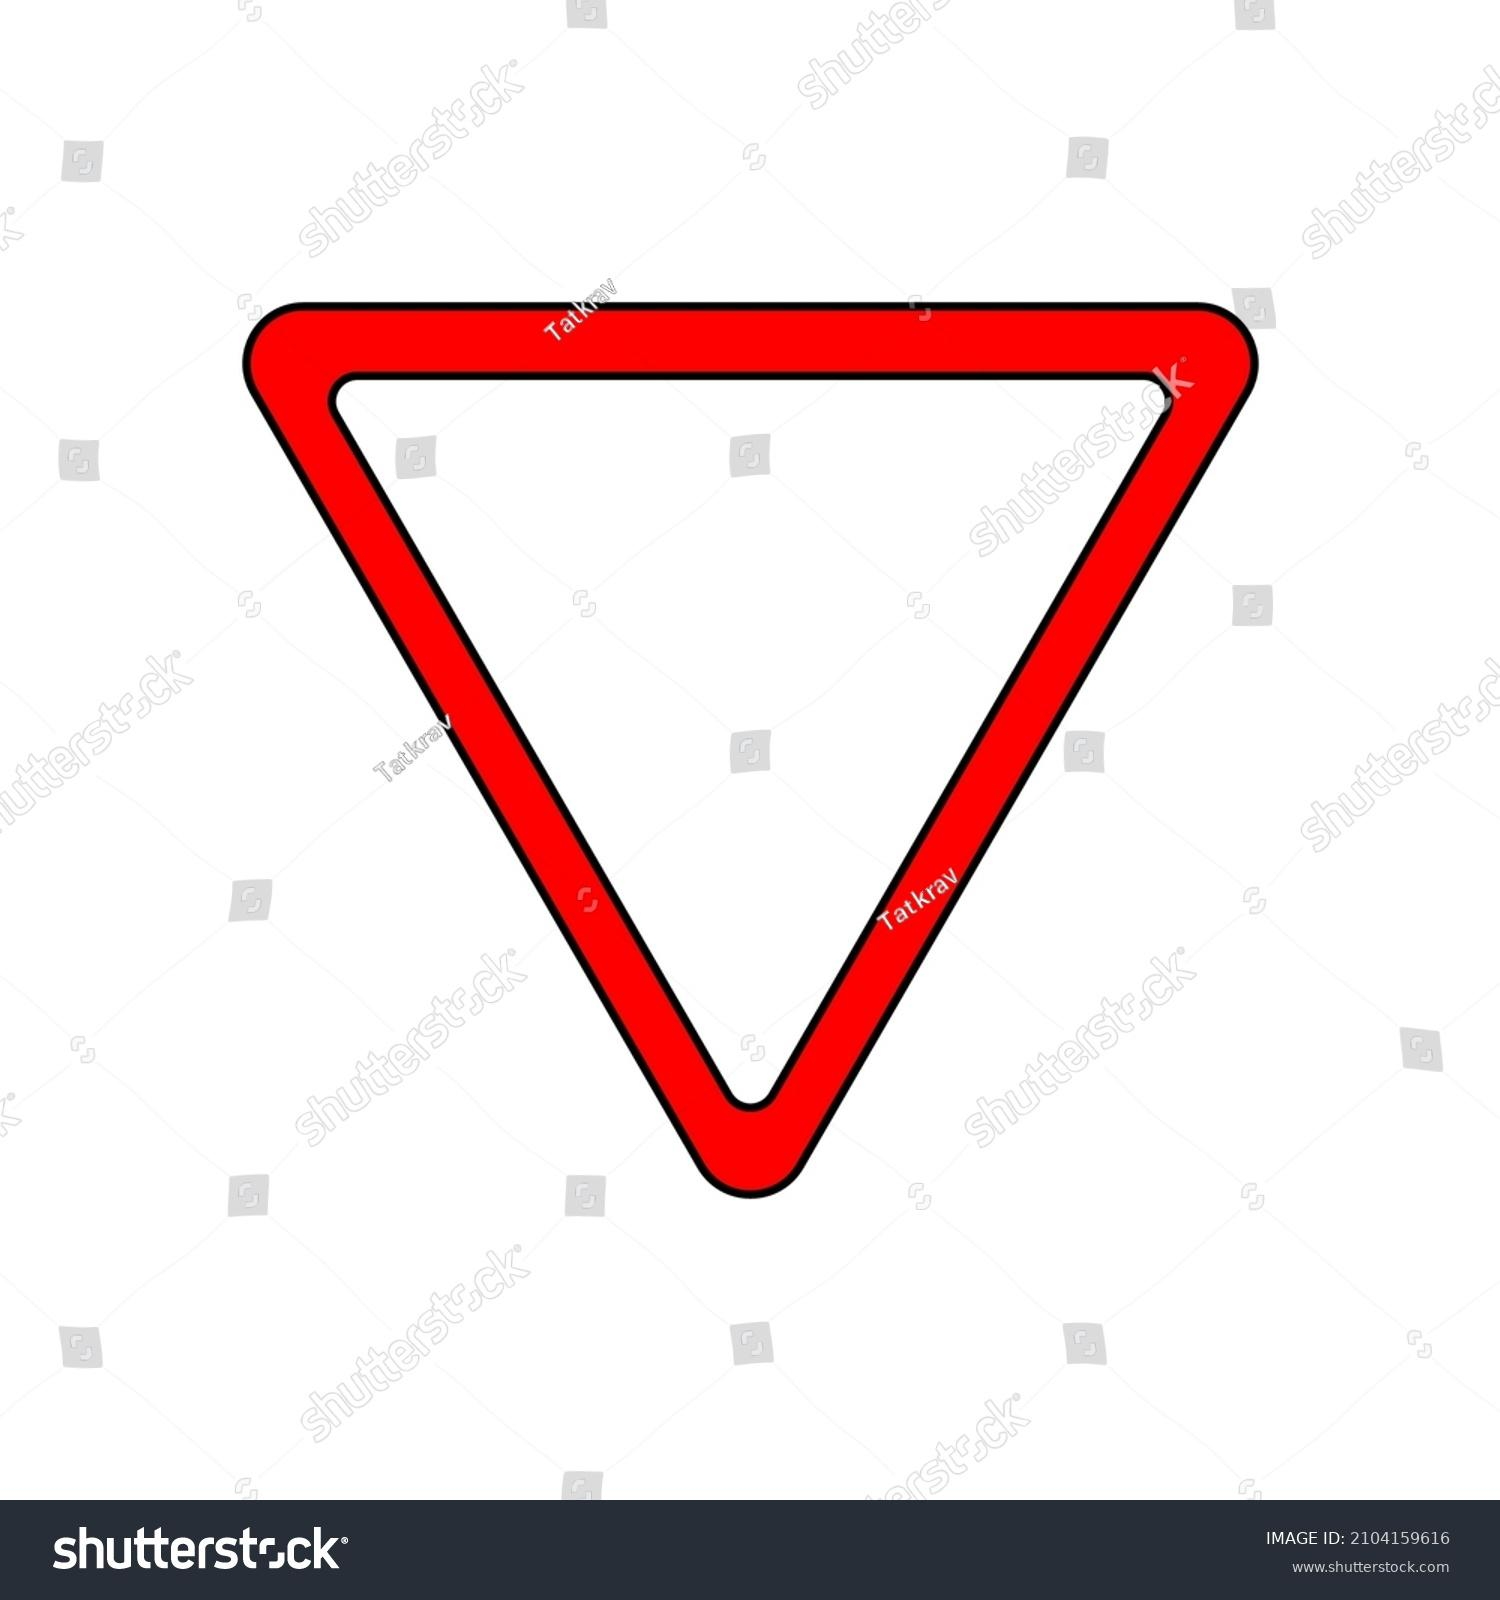Give Way: (197, 271, 1301, 1228)
